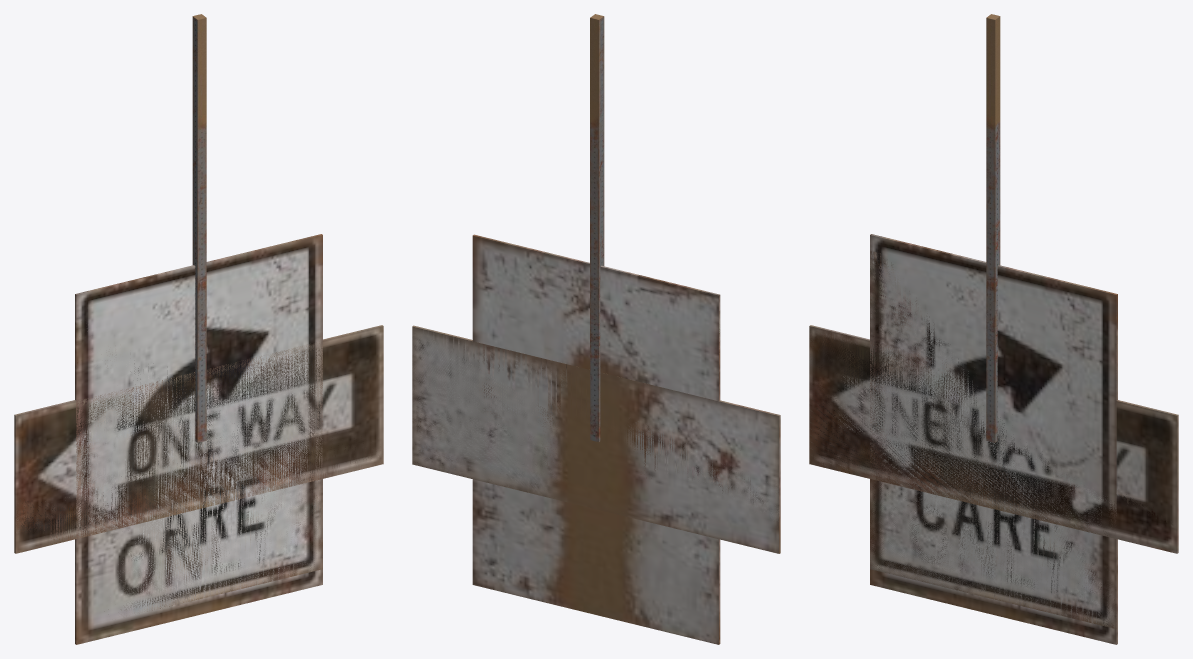
File: sign_set5.glb
The picture shows the model from 3 angles, left to right: view 1: azimuth 30°, elevation 25°; view 2: azimuth 150°, elevation 25°; view 3: azimuth 330°, elevation 25°; orthographic projection.
Parts seen in each view (by area): view 1: rightonly, oneway_l, passcare, post, oneway_r; view 2: rightonly, oneway_l, oneway_r, post; view 3: rightonly, passcare, oneway_l, oneway_r, post.
Boxes of the visible parts, <box> form: rightonly: <box>75,234,322,644</box>; oneway_l: <box>14,325,383,553</box>; passcare: <box>88,324,322,614</box>; post: <box>192,14,206,442</box>; oneway_r: <box>15,400,383,553</box>; rightonly: <box>472,234,720,644</box>; oneway_l: <box>412,325,780,553</box>; oneway_r: <box>412,327,779,521</box>; post: <box>590,14,604,441</box>; rightonly: <box>870,234,1117,644</box>; passcare: <box>870,251,1116,628</box>; oneway_l: <box>809,326,1177,529</box>; oneway_r: <box>809,325,1178,553</box>; post: <box>986,14,1000,442</box>.
Size of the model in its own units: 0.91 by 1.41 by 0.0223.
Materials: 1 (1 with a texture image).
